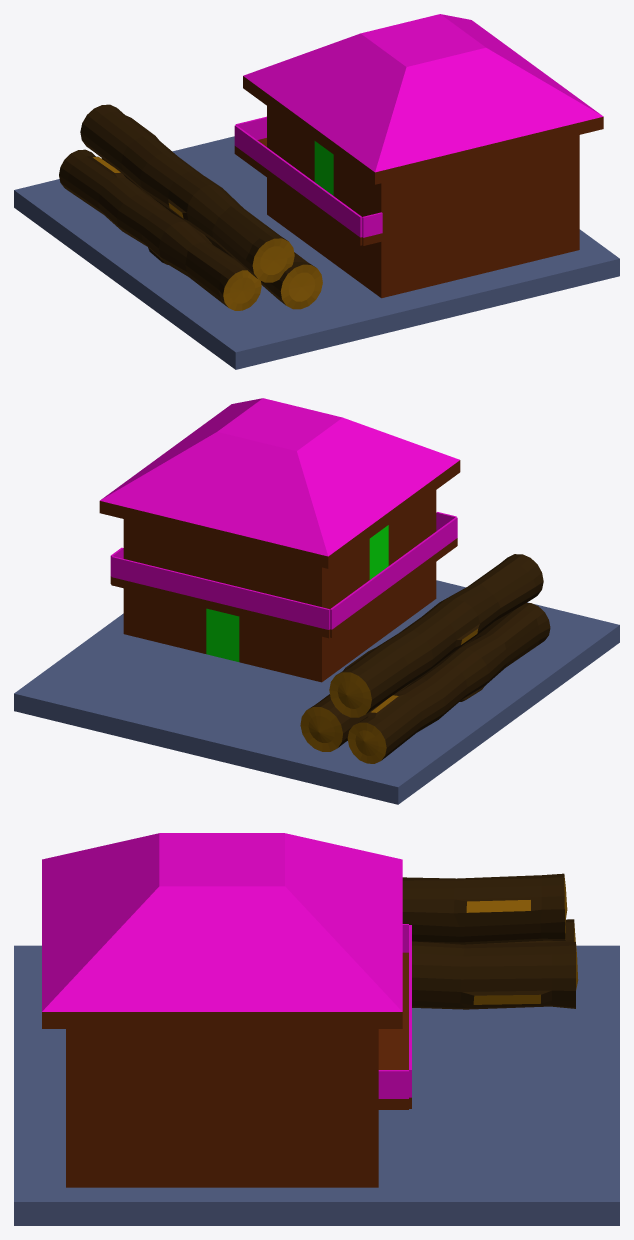
File: lumber.fbx
3 views of the same model, one above another, from view 1: azimuth 30°, elevation 25°; view 2: azimuth 150°, elevation 25°; view 3: azimuth 270°, elevation 25° (orthographic). The views are drawn at different scales.
Parts seen in each view (by area): view 1: Cube.001; view 2: Cube.001; view 3: Cube.001.
Boxes of the visible parts, box(x1,y1,x2,y2) form: Cube.001: box(14, 14, 619, 369); Cube.001: box(14, 398, 619, 804); Cube.001: box(14, 833, 619, 1225).
Size of the model in its own units: 200 by 104 by 200.
